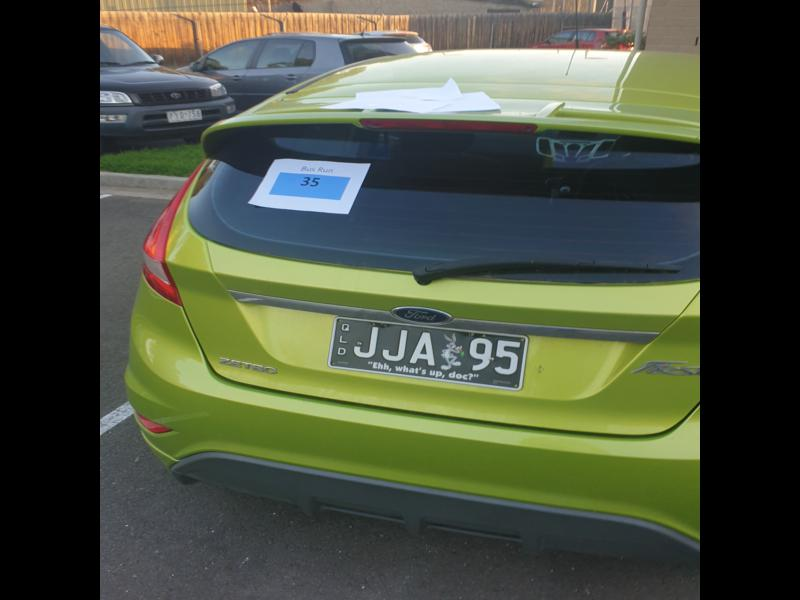BusRun: (267, 174, 348, 200)
PlateNo: (330, 318, 526, 390)
